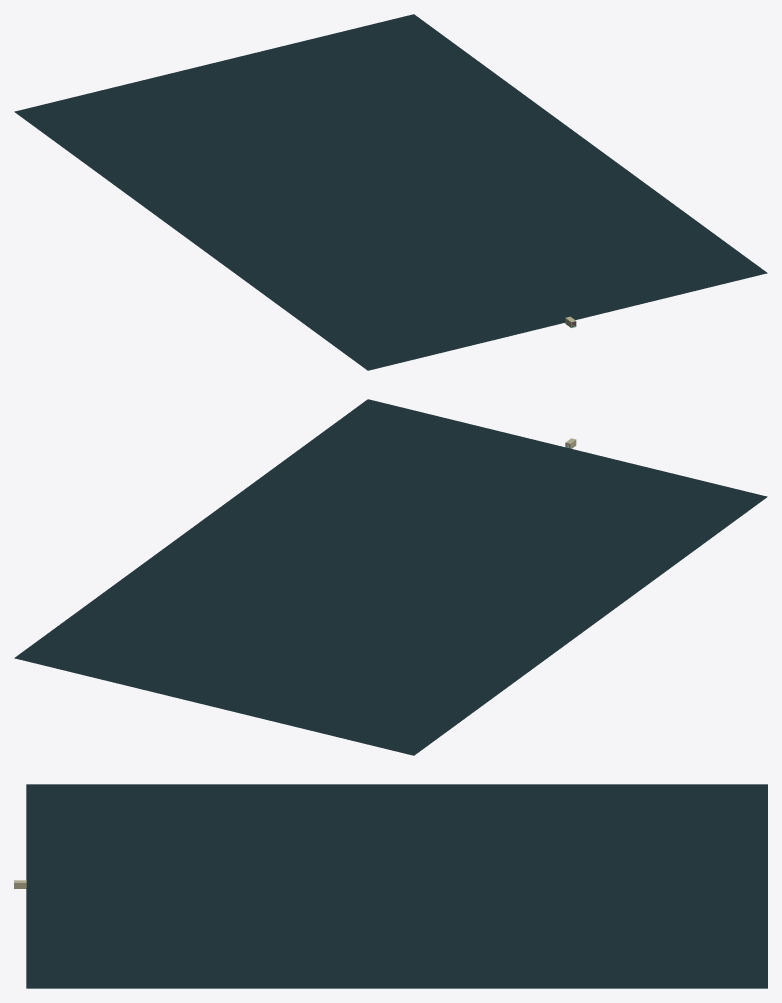
Rendered from v42_ocean_exit.glb.
The picture shows the model from 3 angles, top to bottom: view 1: azimuth 30°, elevation 25°; view 2: azimuth 150°, elevation 25°; view 3: azimuth 270°, elevation 25°; orthographic projection. The views are drawn at different scales.
Visible parts, largest first — view 1: GEO-DREAM-oceanwater-ocean; view 2: GEO-DREAM-oceanwater-ocean; view 3: GEO-DREAM-oceanwater-ocean.
Part boxes in pixels (left/top/right/bottom): GEO-DREAM-oceanwater-ocean: left=14, top=14, right=767, bottom=370; GEO-DREAM-oceanwater-ocean: left=14, top=399, right=767, bottom=755; GEO-DREAM-oceanwater-ocean: left=26, top=784, right=767, bottom=988.
Size of the model in its own units: 300 by 4.27 by 467.
9 materials, 4 textured.
